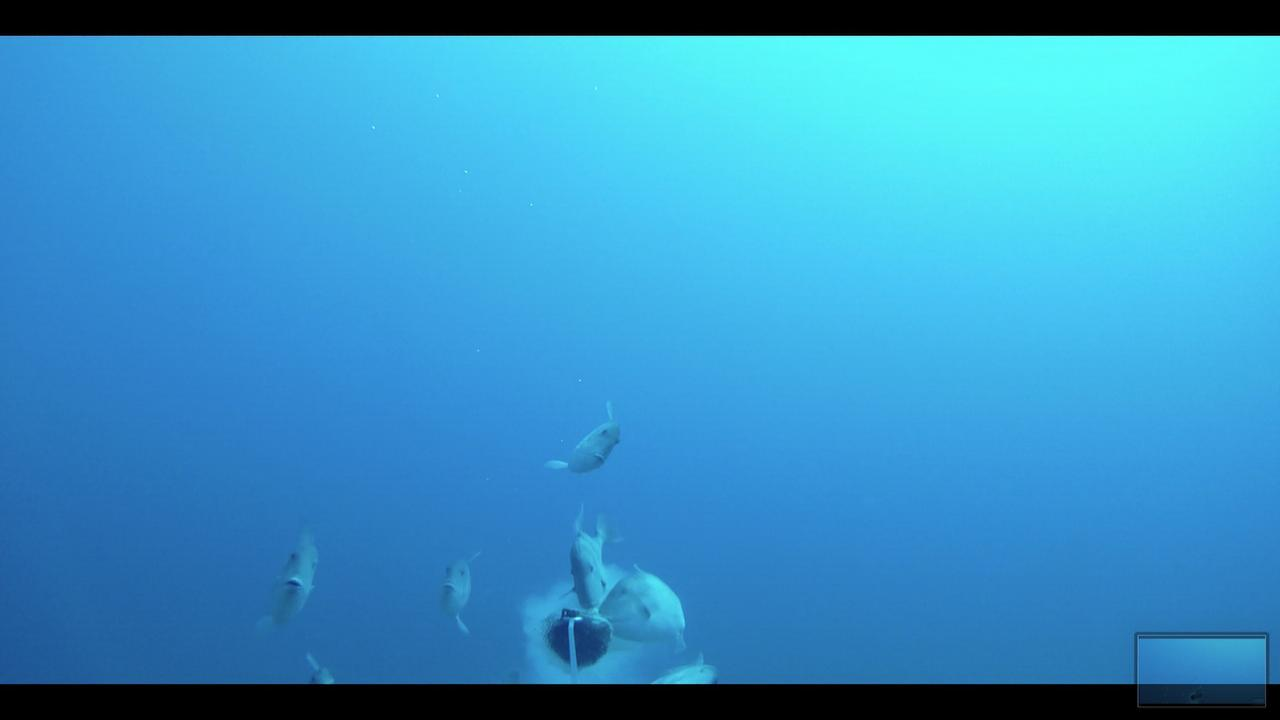balistes: (599, 564, 706, 652), (252, 520, 328, 633), (538, 391, 630, 480), (555, 503, 613, 609), (435, 547, 482, 637)
